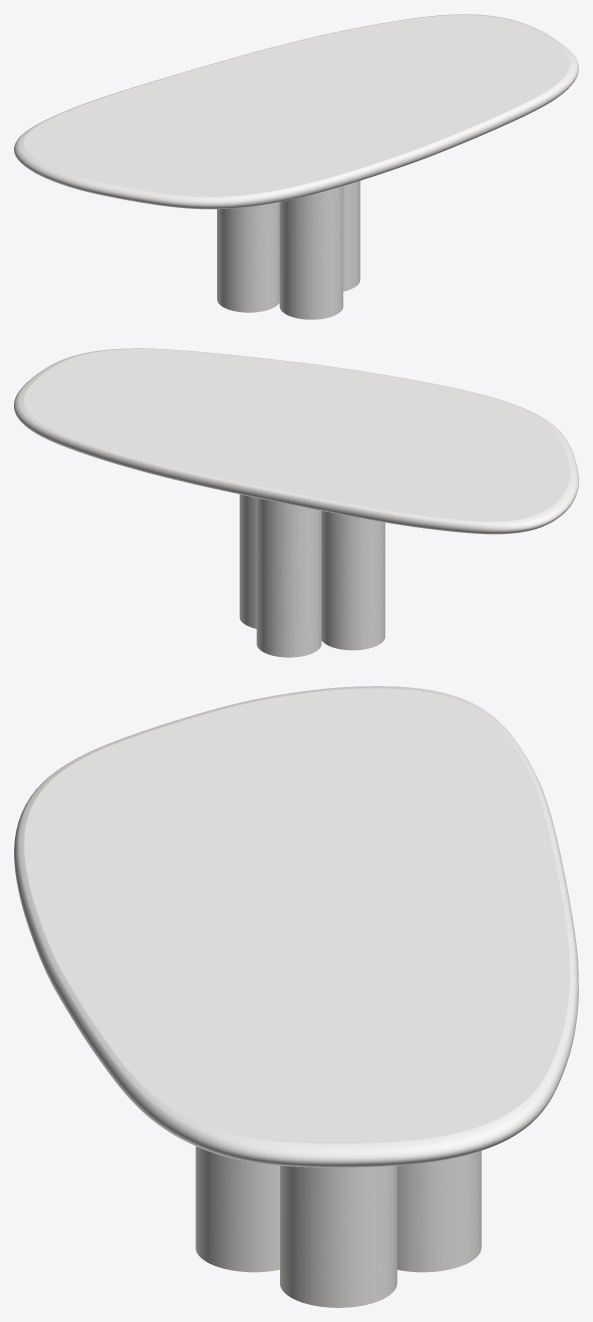
File: purewhite_leaf2_round_secondtable.glb
3 views of the same model, one above another, from view 1: azimuth 30°, elevation 25°; view 2: azimuth 150°, elevation 25°; view 3: azimuth 270°, elevation 25° (orthographic). The views are drawn at different scales.
Visible parts, largest first — view 1: round_leaf2, secondtable; view 2: round_leaf2, secondtable; view 3: round_leaf2, secondtable.
Boxes of the visible parts, x1=… form: round_leaf2: x1=14, y1=14, x2=578, y2=209; secondtable: x1=217, y1=181, x2=360, y2=319; round_leaf2: x1=14, y1=348, x2=578, y2=534; secondtable: x1=239, y1=494, x2=385, y2=657; round_leaf2: x1=14, y1=686, x2=578, y2=1167; secondtable: x1=195, y1=1146, x2=481, y2=1307.
Bounding box in the file's own units: 7.5 × 2.52 × 3.8.
Materials: 1 (1 with a texture image).
